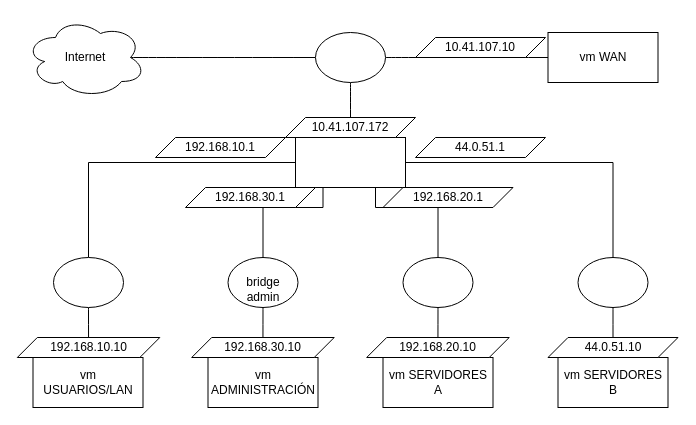
Some shapes in this 696 by 425 pixel diagram are drawn without their labels. Here are the shapes that lost their labels. From the top down, the centre of each, then its label:
the point at 350,57: bridge WAN
the point at 350,162: vm pfSense
the point at 88,282: bridge usuarios
the point at 437,282: bridge portfw
the point at 612,282: bridge ruteado
